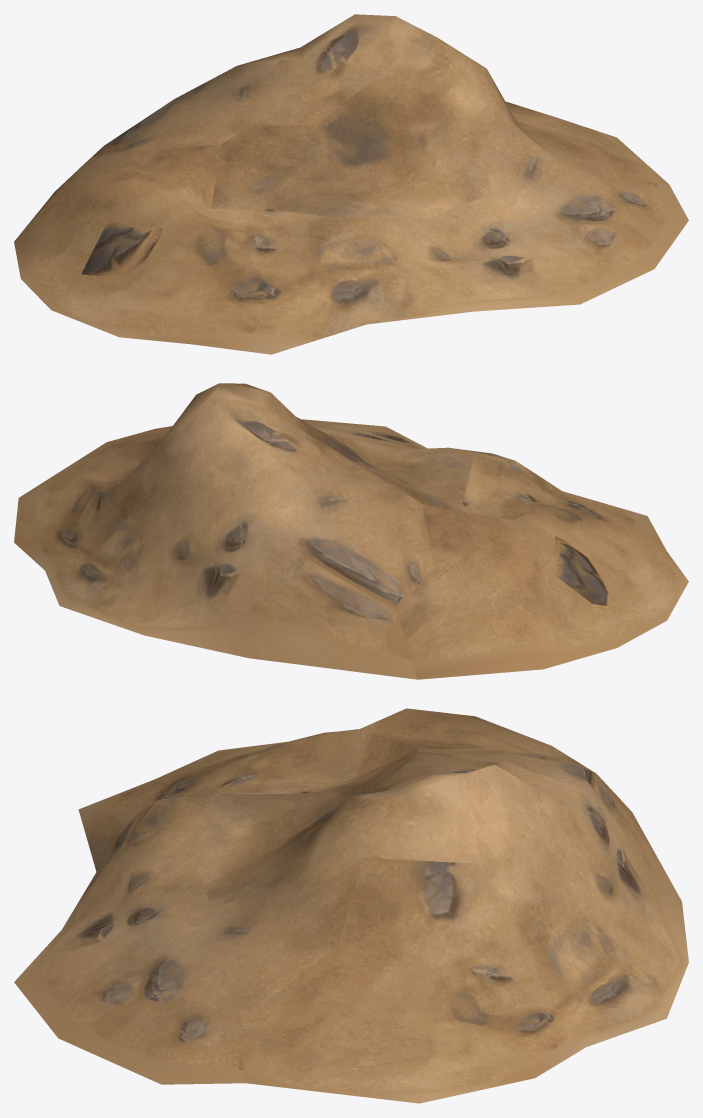
Rendered from xsm_shazi_2.FBX.
3 views of the same model, one above another, from view 1: azimuth 30°, elevation 25°; view 2: azimuth 150°, elevation 25°; view 3: azimuth 270°, elevation 25° (orthographic). The views are drawn at different scales.
Parts seen in each view (by area): view 1: xsm_shazi_2; view 2: xsm_shazi_2; view 3: xsm_shazi_2.
Part boxes in pixels (left/top/right/bottom): xsm_shazi_2: left=14, top=14, right=688, bottom=354; xsm_shazi_2: left=14, top=383, right=688, bottom=679; xsm_shazi_2: left=14, top=708, right=688, bottom=1103.
Bounding box in the file's own units: 105 × 26.94 × 81.93.
